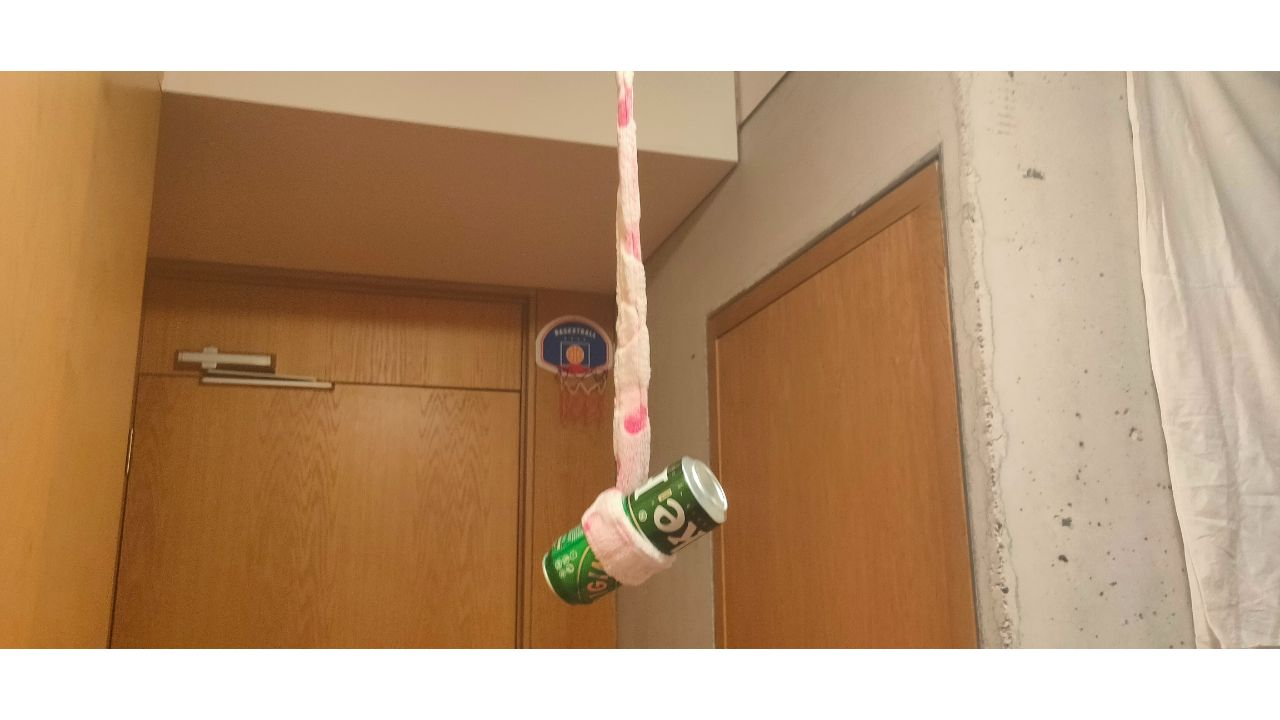Can: (540, 457, 727, 604)
